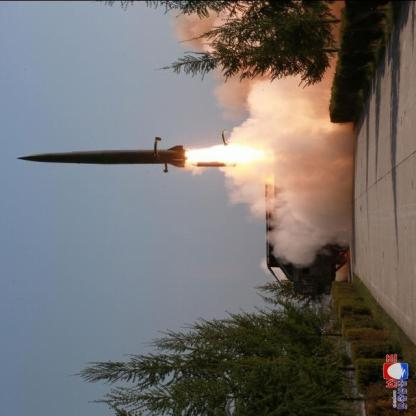MIL_TBM: (14, 143, 198, 170)
